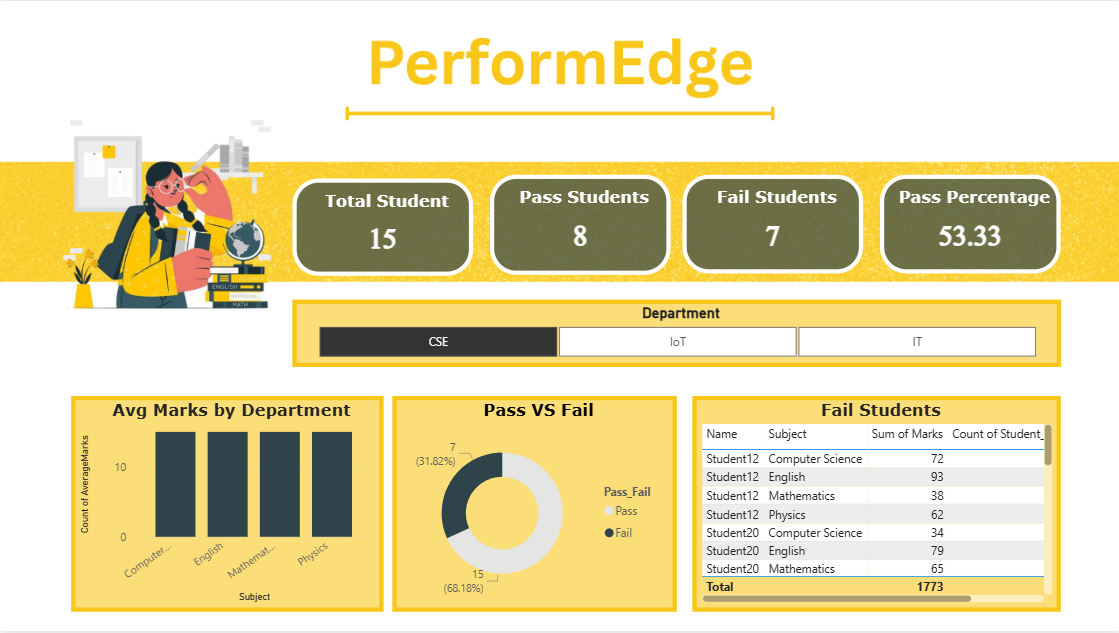

This screenshot's page, from the dashboard's own definition file:
{"tool":"powerbi","page":{"name":"Page 1","canvas":[1280,720],"ordinal":0},"visuals":[{"type":"card","title":"Total Student ","fields":{"Values":["PerformEdge_Student_Data.Total Students data"]},"box":[334.6,202.3,206.2,111.5],"z":0},{"type":"card","title":"Pass Percentage","fields":{"Values":["PerformEdge_Student_Data.Pass Percentage"]},"box":[1006.2,199.2,206.2,113.1],"z":1000},{"type":"card","title":"Fail Students","fields":{"Values":["PerformEdge_Student_Data.Fail Students"]},"box":[780,199.2,206.2,113.1],"z":2000},{"type":"card","title":"Pass Students","fields":{"Values":["PerformEdge_Student_Data.Pass Students"]},"box":[560,199.2,206.2,114.6],"z":3000},{"type":"columnChart","title":"Avg Marks by Department","fields":{"Y":["PerformEdge_Student_Data.AverageMarks"],"Category":["PerformEdge_Student_Data.Subject"]},"box":[80.8,451.2,357.1,246.1],"z":4000},{"type":"donutChart","title":"Pass VS Fail","fields":{"Y":["PerformEdge_Student_Data.Student_ID"],"Category":["PerformEdge_Student_Data.Pass_Fail"]},"box":[448.8,451.2,324.5,246.1],"z":5000},{"type":"slicer","title":"Department","fields":{"Values":["PerformEdge_Student_Data.Dept"]},"box":[334.3,341.4,878.6,77.1],"z":6000},{"type":"tableEx","title":"Fail Students","fields":{"Values":["PerformEdge_Student_Data.Name","PerformEdge_Student_Data.Subject","PerformEdge_Student_Data.Marks","PerformEdge_Student_Data.Student_ID","PerformEdge_Student_Data.Fail Students"]},"box":[791.4,451.2,421,246.1],"z":6001}]}

Visuals, with their boxes in screenshot pixels (x1, y1, x2, y2), scaled from the page's 1280x720 canvas onto the 1119x633 screenshot:
"Total Student " card: <bbox>293, 178, 473, 276</bbox>
"Pass Percentage" card: <bbox>880, 175, 1060, 275</bbox>
"Fail Students" card: <bbox>682, 175, 862, 275</bbox>
"Pass Students" card: <bbox>490, 175, 670, 276</bbox>
"Avg Marks by Department" columnChart: <bbox>71, 397, 383, 613</bbox>
"Pass VS Fail" donutChart: <bbox>392, 397, 676, 613</bbox>
"Department" slicer: <bbox>292, 300, 1060, 368</bbox>
"Fail Students" tableEx: <bbox>692, 397, 1060, 613</bbox>
